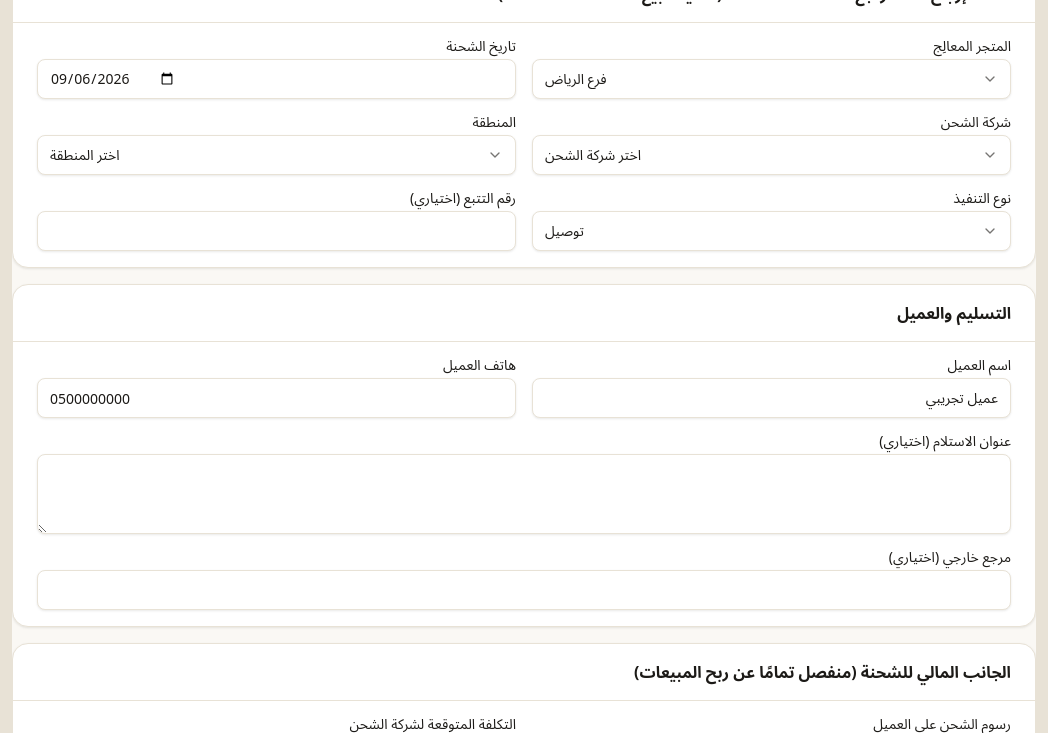
Scenario: ShipmentEntryForm — Hotfix 5.1.3 items 1/2/3 (preview ERROR is not no-config, Retry recovers) › item C (Retry -> found): clicking 'إعادة التحقق' after an error and getting a real found result fills the untouched field, shows the found message, and re-enabl
The image size is (1048, 733).
Press the mouse on the dropdown labelled "اختر شركة الشحن": (593, 154) left=532, top=135, right=1011, bottom=175
Click the dropdown labelled "اختر شركة الشحن": click(593, 154) left=532, top=135, right=1011, bottom=175
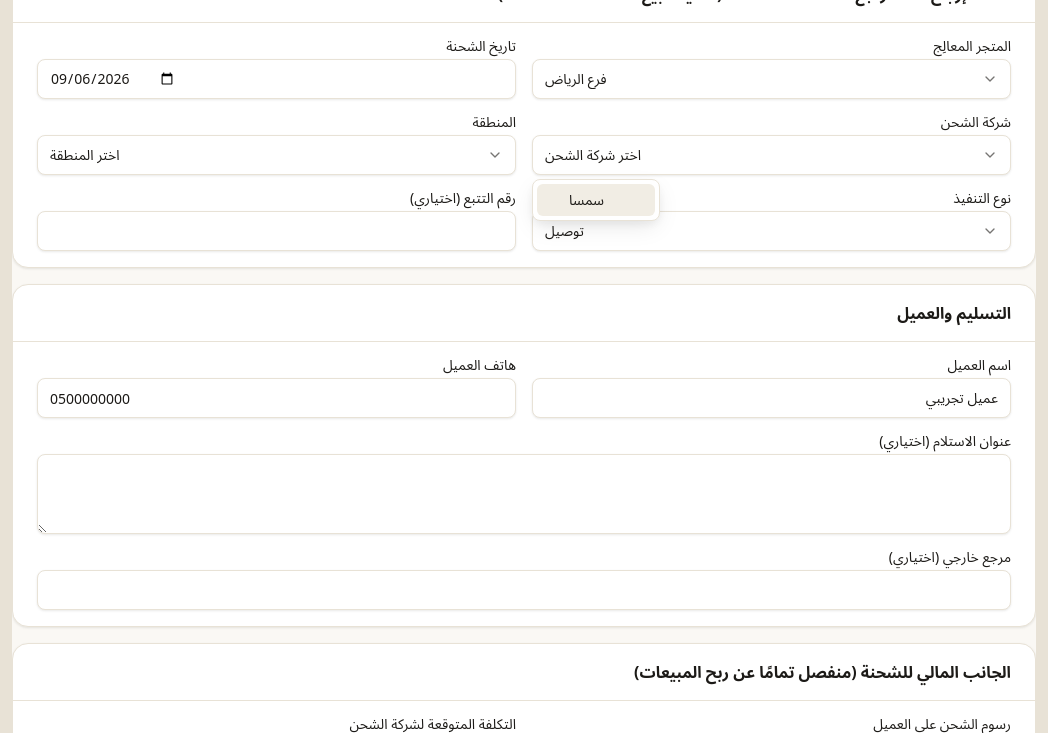
Click the option "سمسا": click(596, 200) left=537, top=184, right=655, bottom=216
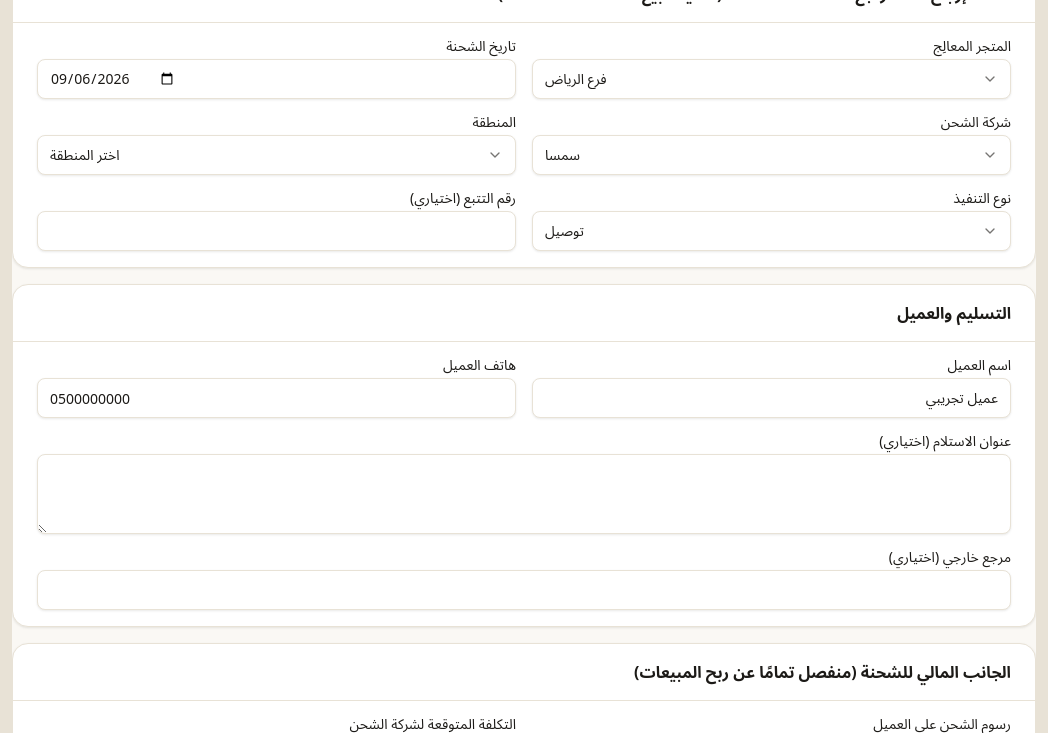
Press the mouse on the dropdown labelled "اختر المنطقة": (85, 154) left=37, top=135, right=516, bottom=175
Click the dropdown labelled "اختر المنطقة": click(85, 154) left=37, top=135, right=516, bottom=175
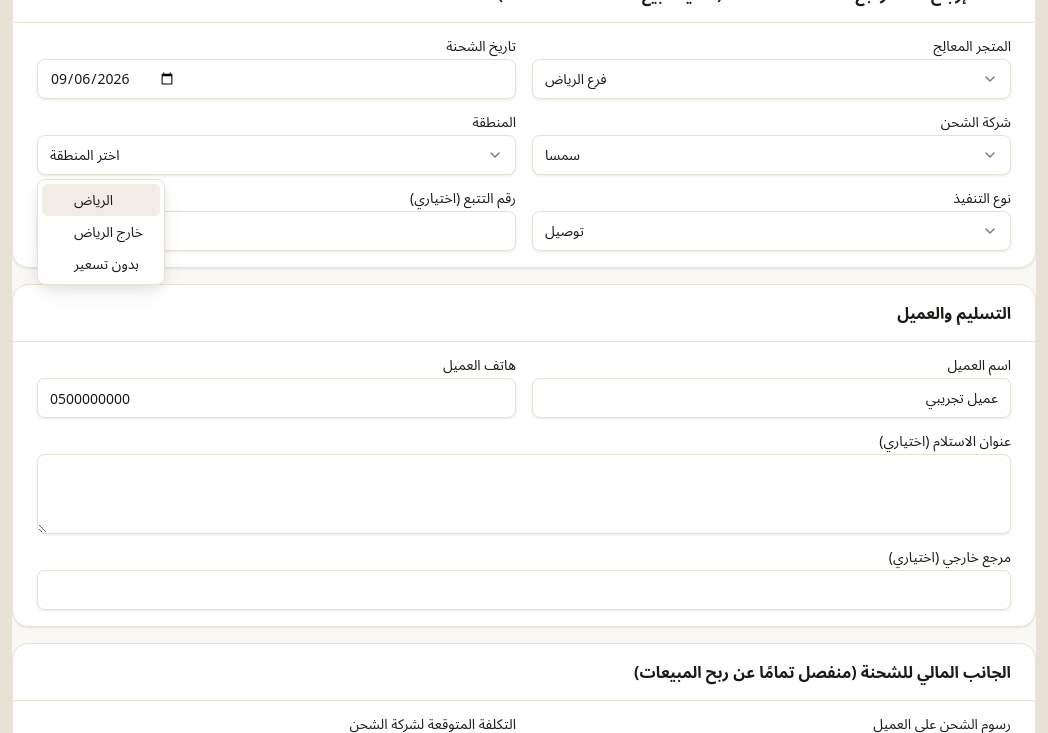
Click the option "الرياض": click(101, 200) left=42, top=184, right=160, bottom=216
(page scrolled)
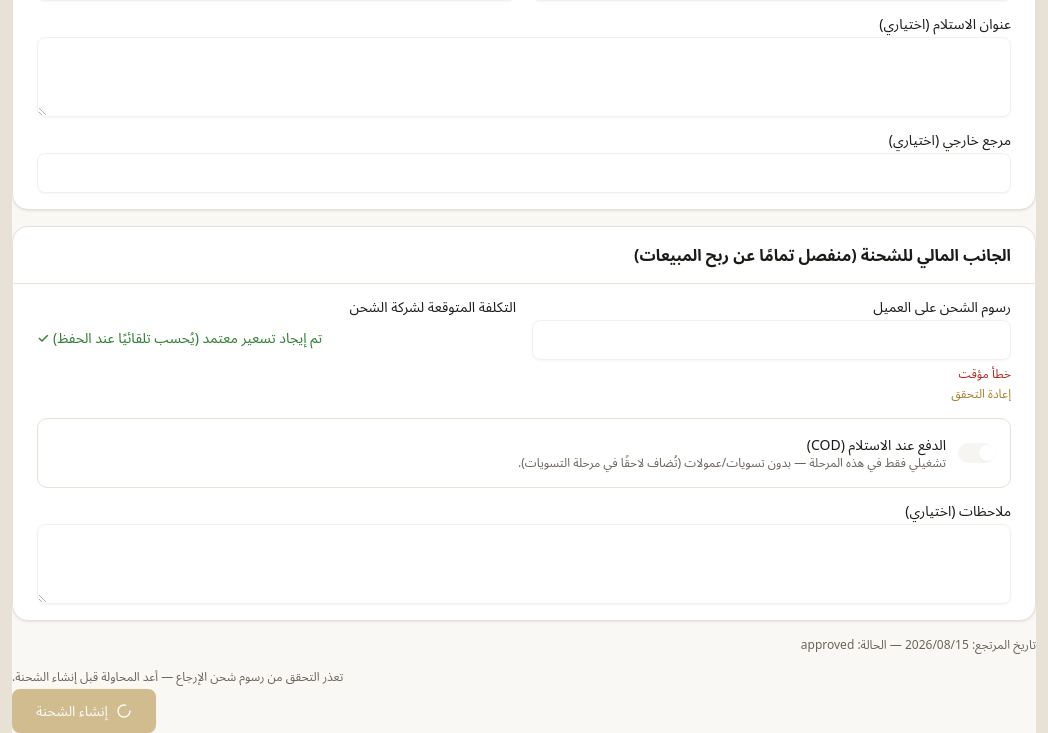
Now the text "خطأ مؤقت" is shown, box left=958, top=366, right=1011, bottom=382
Click the button "إعادة التحقق": click(981, 394) left=951, top=386, right=1011, bottom=402
(page scrolled)
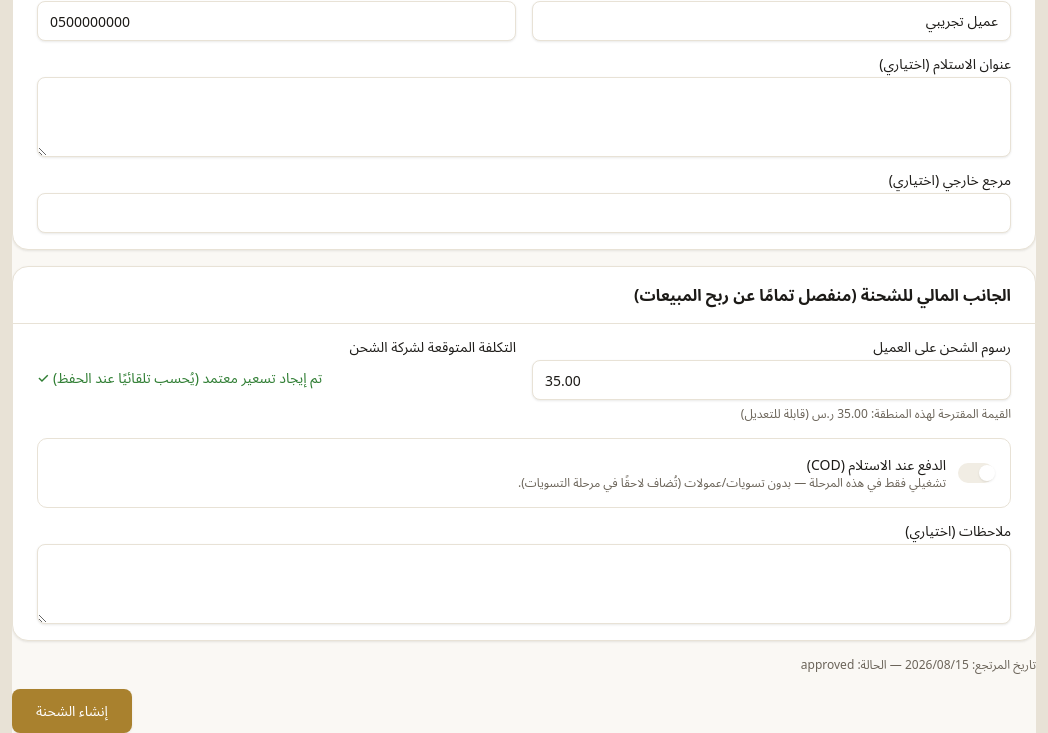
Now the field below "رسوم الشحن على العميل" holds "35.00", box left=532, top=360, right=1011, bottom=400
Now the text "خطأ مؤقت" is gone
Now the text "القيمة المقترحة لهذه المنطقة: 35.00 ر.س (قابلة للتعديل)" is shown, box left=741, top=405, right=1011, bottom=422
